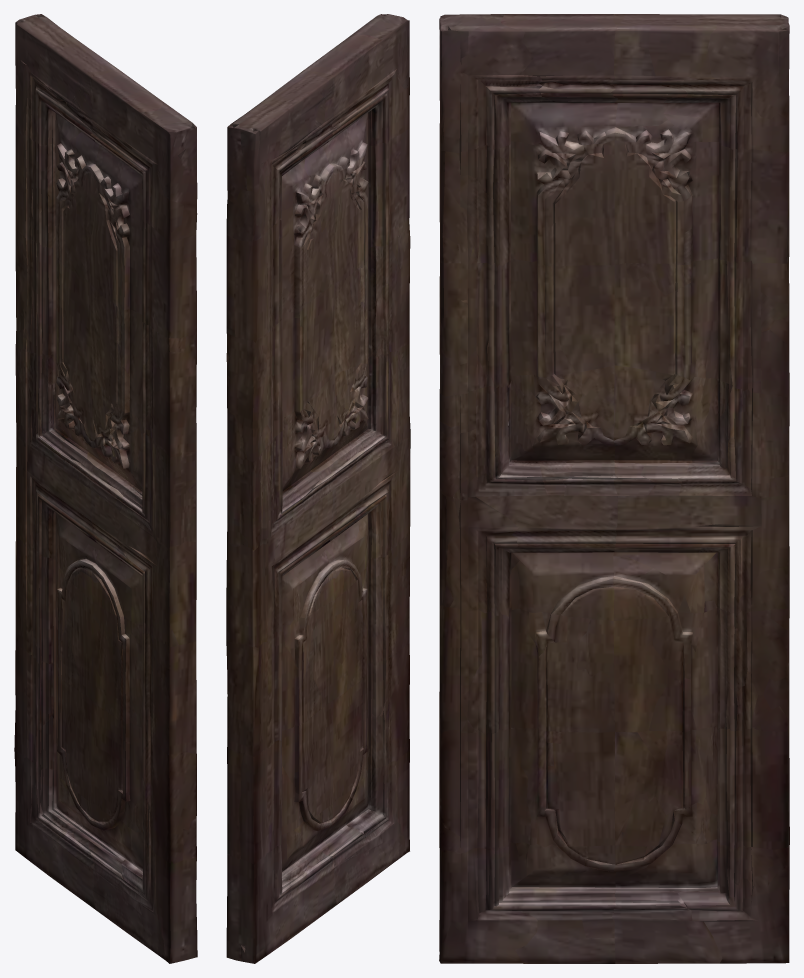
Rendered from SM_Men_A218C_VTWElementLookDev1_11243c.glb.
3 views of the same model, side by side, from view 1: azimuth 30°, elevation 25°; view 2: azimuth 150°, elevation 25°; view 3: azimuth 270°, elevation 25° (orthographic). The views are drawn at different scales.
Visible parts, largest first — view 1: SM_Men_A218C_VTWElementLookDev1; view 2: SM_Men_A218C_VTWElementLookDev1; view 3: SM_Men_A218C_VTWElementLookDev1.
Part boxes in pixels (box(x1,y1,x2,y2)): SM_Men_A218C_VTWElementLookDev1: box(14, 14, 197, 963); SM_Men_A218C_VTWElementLookDev1: box(226, 14, 410, 963); SM_Men_A218C_VTWElementLookDev1: box(439, 14, 789, 963).
Size of the model in its own units: 0.0961 by 2.19 by 0.7458.
Materials: 1 (1 with a texture image).
